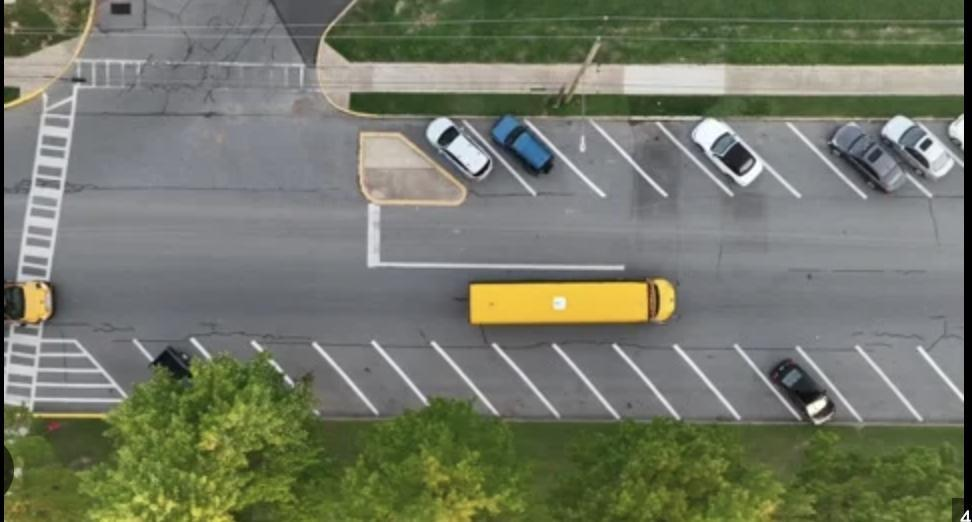Bus: (469, 277, 676, 324), (4, 281, 53, 325)
Car: (828, 122, 906, 194), (691, 118, 761, 186), (881, 116, 953, 181), (770, 359, 836, 425), (425, 118, 490, 181), (492, 116, 552, 173)
